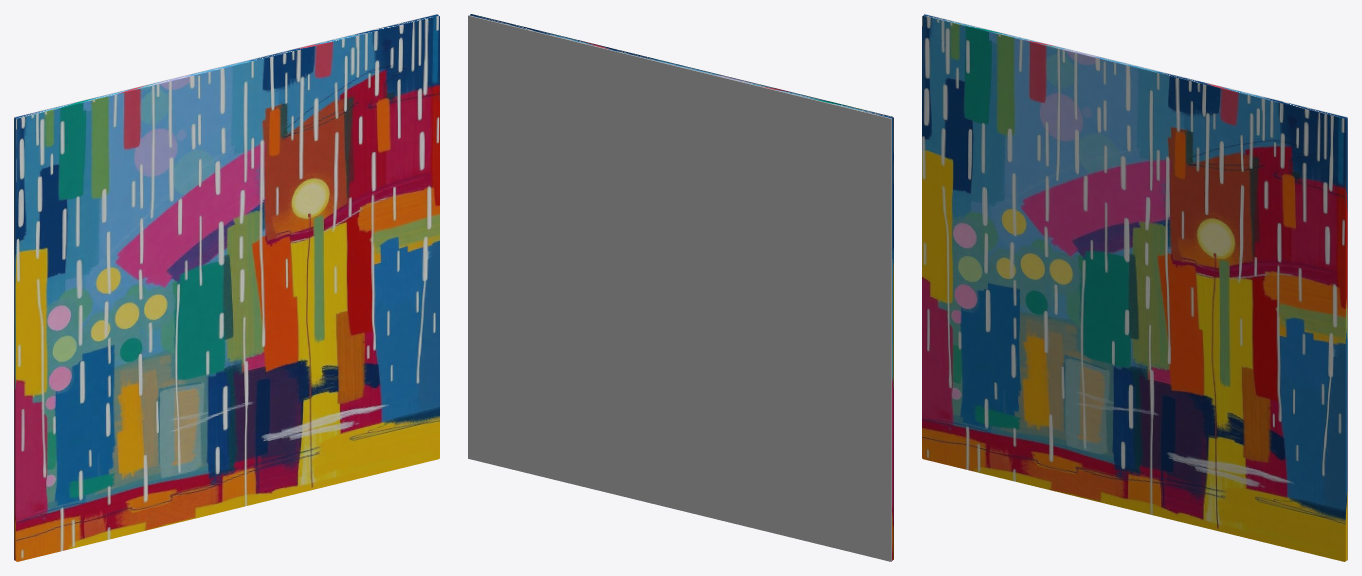
File: metal.glb
3 renders of one model, left to right at view 1: azimuth 30°, elevation 25°; view 2: azimuth 150°, elevation 25°; view 3: azimuth 330°, elevation 25°, orthographic.
Parts seen in each view (by area): view 1: metal front, metal black; view 2: metal black, metal front; view 3: metal front, metal black.
Boxes of the visible parts, x1,y1,x2,y2 form: metal front: (14, 14, 439, 561); metal black: (14, 14, 437, 560); metal black: (468, 15, 891, 561); metal front: (470, 14, 893, 560); metal front: (922, 14, 1347, 561); metal black: (924, 14, 1347, 560).
Size of the model in its own units: 2 by 2 by 0.0202.
Materials: 2 (1 with a texture image).
